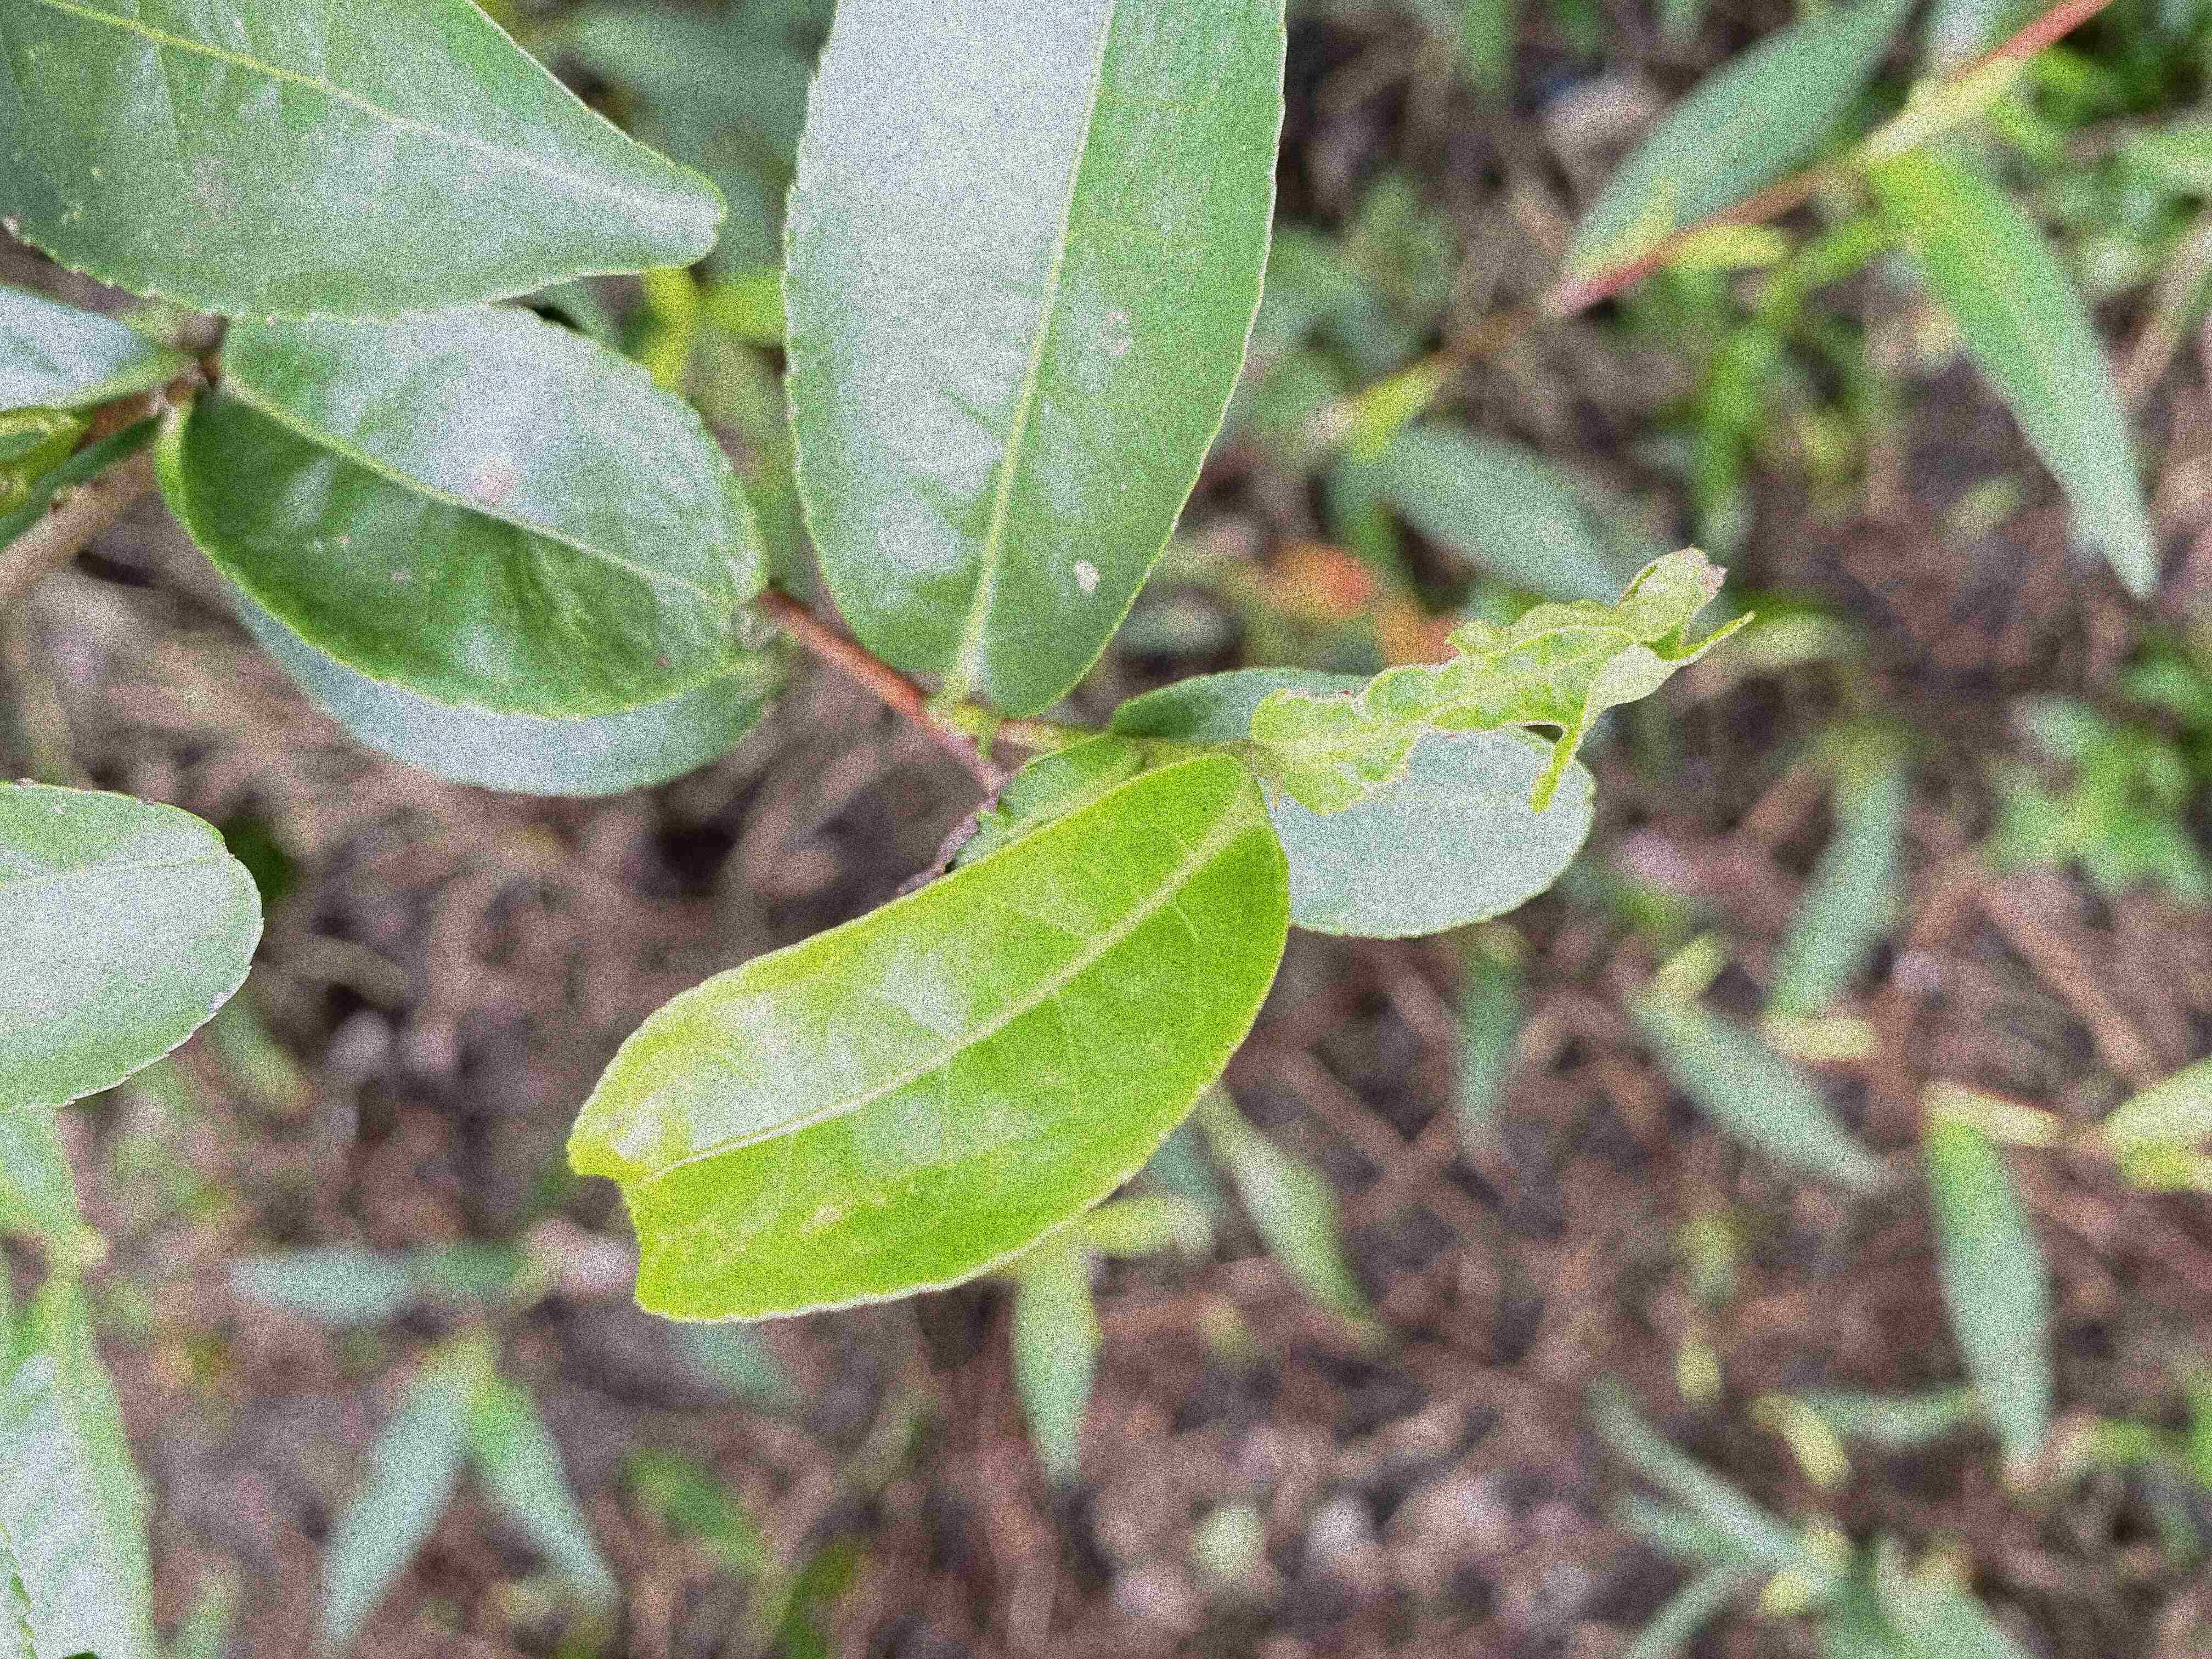chihuo_high: (1249, 545, 1756, 817)
chihuo_low: (564, 749, 1292, 1328)
tanju_low: (779, 0, 1291, 721), (174, 307, 766, 723)
